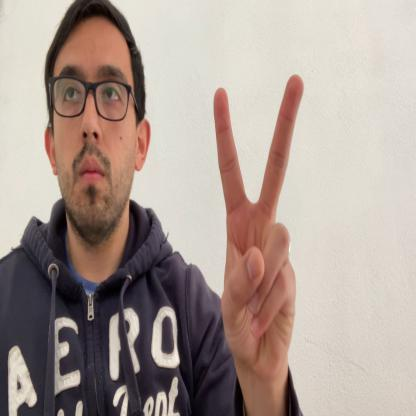V: (213, 73, 304, 396)
